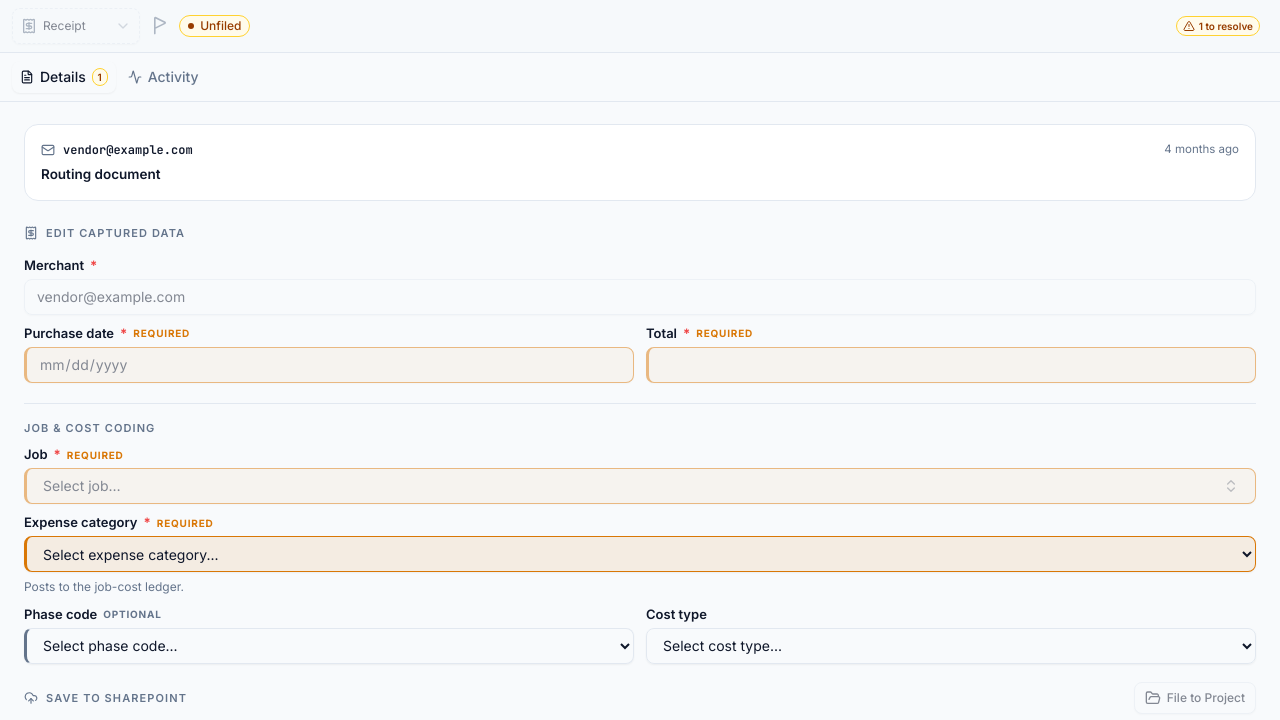
Test: DocumentPanelRouteSurface › makes collaboration view-only for a submitted document
Click the tab "Activity" at (163, 77), box [120,61,207,93]
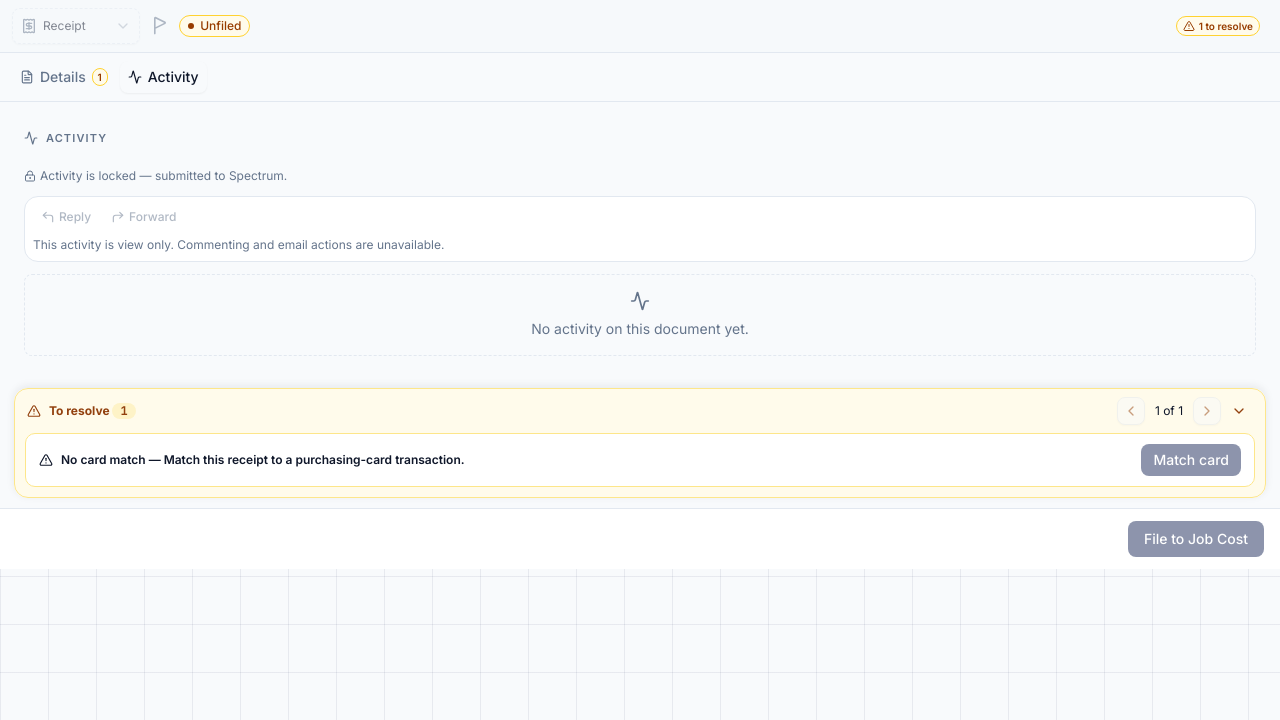
Now the text "Activity is locked — submitted to Spectrum." is shown, box [24,168,287,184]
